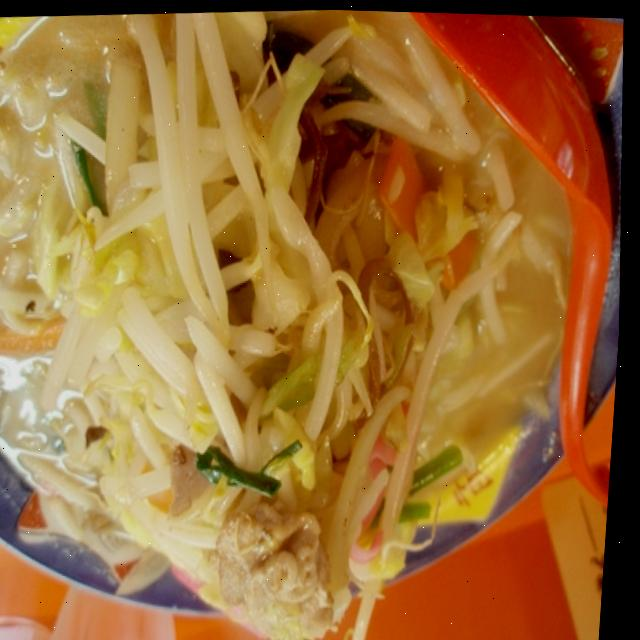烧串烤肉: (0, 80, 636, 496)
